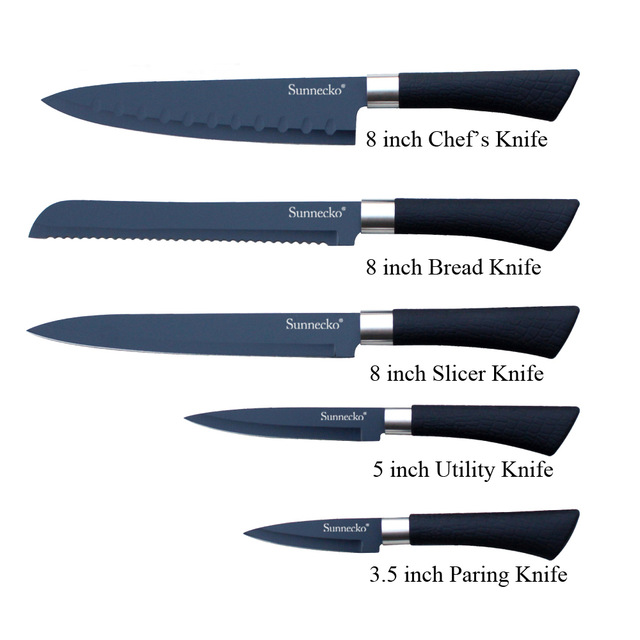knife: (38, 70, 582, 145), (27, 303, 584, 362), (183, 403, 582, 457), (240, 509, 579, 562)
